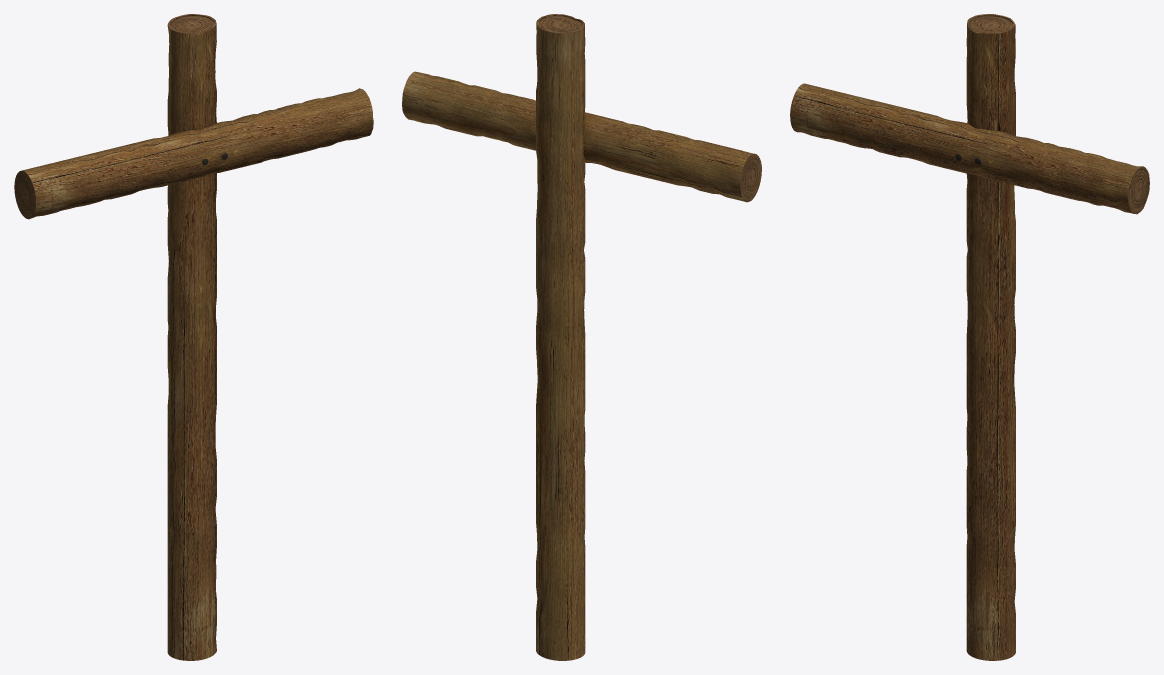
File: cross.glb
3 views of the same model, side by side, from view 1: azimuth 30°, elevation 25°; view 2: azimuth 150°, elevation 25°; view 3: azimuth 330°, elevation 25° (orthographic).
Parts seen in each view (by area): view 1: Object_2; view 2: Object_2; view 3: Object_2.
Boxes of the visible parts, x1,y1,x2,y2 form: Object_2: [14, 14, 373, 660]; Object_2: [402, 14, 761, 660]; Object_2: [790, 14, 1149, 660].
Bounding box in the file's own units: 15.43 × 27.34 × 2.73.
Materials: 1 (1 with a texture image).
